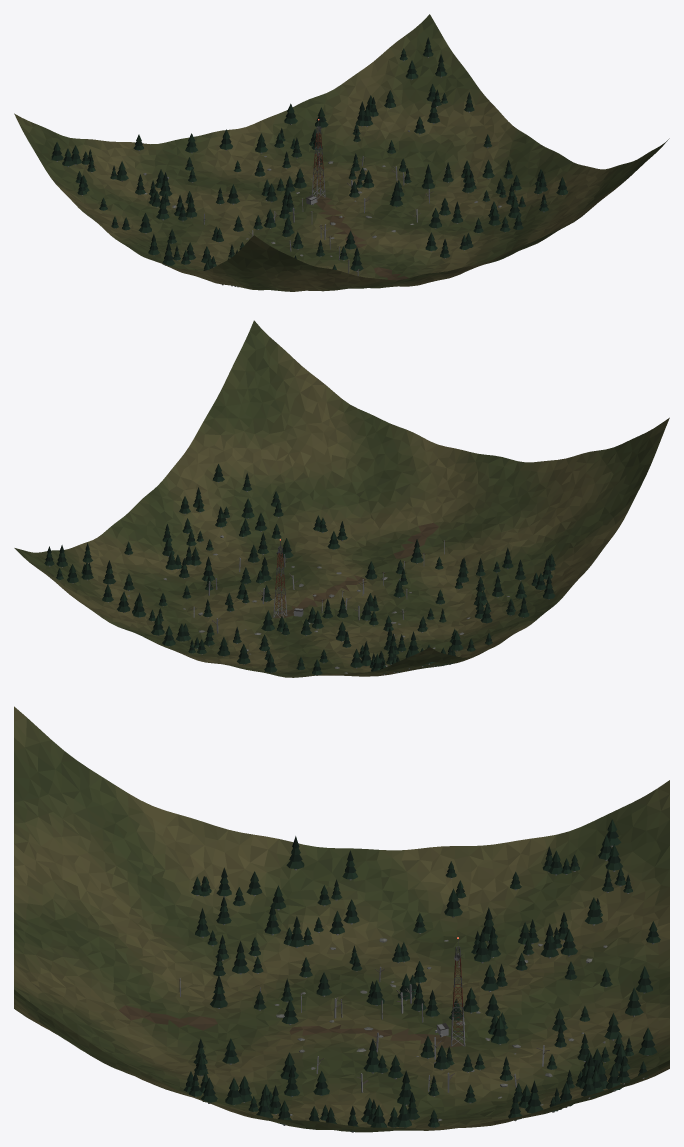
Rendered from title_scene.glb.
3 views of the same model, one above another, from view 1: azimuth 30°, elevation 25°; view 2: azimuth 150°, elevation 25°; view 3: azimuth 270°, elevation 25° (orthographic). The views are drawn at different scales.
Parts seen in each view (by area): view 1: Ground, Pines, COL_Wood, Tower; view 2: Ground, Pines, COL_Wood; view 3: Ground, Pines, COL_Wood, Tower, SOLID_Rocks.
Part boxes in pixels (x1,y1,x2,y2): Ground: (14, 14, 669, 291); Pines: (51, 37, 567, 286); COL_Wood: (56, 57, 562, 287); Tower: (312, 120, 324, 192); Ground: (14, 320, 669, 677); Pines: (44, 464, 555, 675); COL_Wood: (49, 482, 551, 675); Ground: (14, 706, 669, 1132); Pines: (183, 819, 660, 1131); COL_Wood: (179, 845, 654, 1132); Tower: (452, 939, 463, 1036); SOLID_Rocks: (274, 938, 607, 1121).
Bounding box in the file's own units: 260 × 83.67 × 260.
